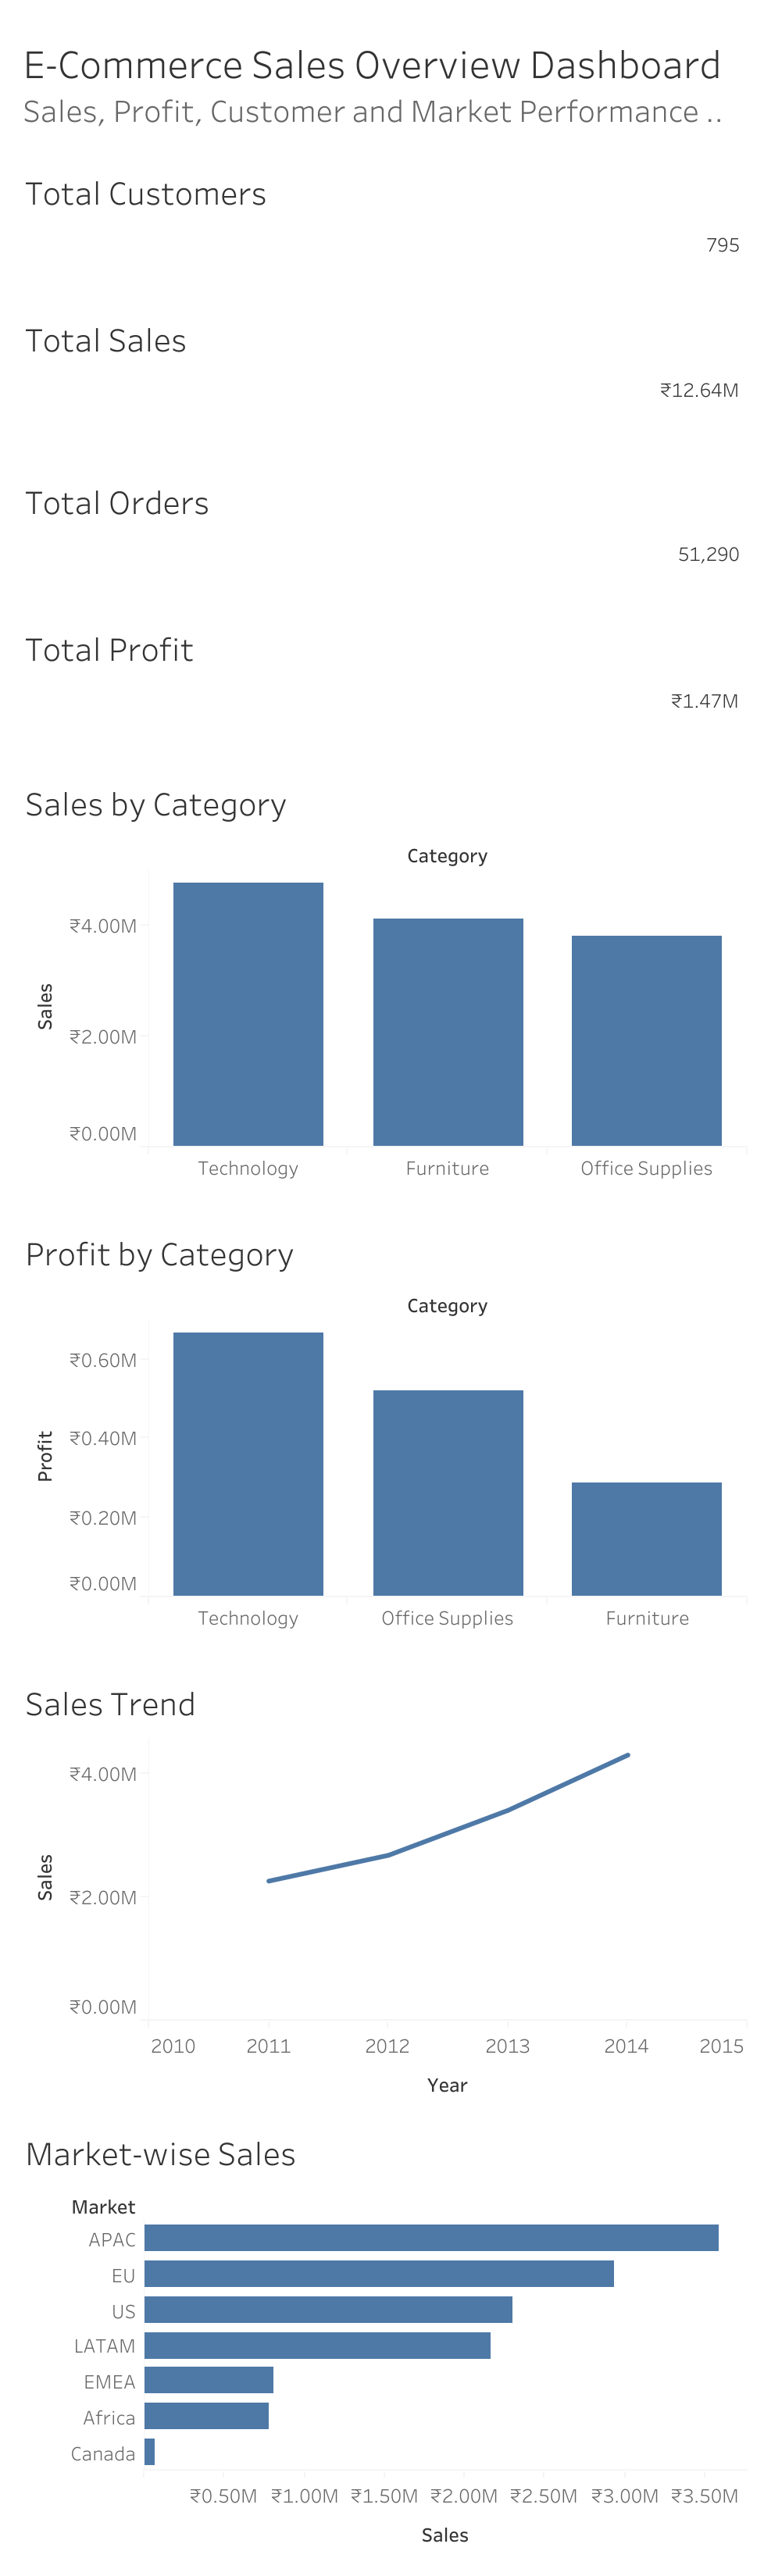

Layout of this report page (visuals, bound fields, positions):
{"tool":"tableau","page":{"name":"E-Commerce Sales Overview Dashboard","canvas":[1000,1000],"units":"permille","ordinal":0},"visuals":[{"type":"title","box":[8.4,9.4,983.3,80.7]},{"type":"worksheet","title":"Total Customers","mark":"Automatic","box":[732.5,86.5,250.8,107.6]},{"type":"worksheet","title":"Total Sales","mark":"Automatic","box":[1,87.7,256,119.3]},{"type":"worksheet","title":"Total Orders","mark":"Automatic","box":[502.6,87.7,230.9,107.6]},{"type":"worksheet","title":"Total Profit","mark":"Automatic","box":[255,88.9,248.7,113.5]},{"type":"worksheet","title":"Sales by Category","mark":"Automatic","rows":["sales"],"cols":["category"],"box":[3.1,193,490.1,421.1]},{"type":"worksheet","title":"Profit by Category","mark":"Automatic","rows":["profit"],"cols":["category"],"box":[496.3,198.8,502.6,412.9]},{"type":"worksheet","title":"Sales Trend","mark":"Line","rows":["sales"],"cols":["year"],"box":[1,616.4,493.2,382.5]},{"type":"worksheet","title":"Market-wise Sales","mark":"Automatic","rows":["market"],"cols":["sales"],"box":[495.3,618.7,503.7,369.6]}]}

Visuals, with their boxes on the dashboard's canvas, which has no fixed pixel size, in thousandths of its width and height (x1, y1, x2, y2). These are canvas units, not pixel positions in the 764x2576 screenshot, which may show the page scaled, cropped or inside an application window:
title: region(8, 9, 992, 90)
"Total Customers" worksheet: region(732, 86, 983, 194)
"Total Sales" worksheet: region(1, 88, 257, 207)
"Total Orders" worksheet: region(503, 88, 734, 195)
"Total Profit" worksheet: region(255, 89, 504, 202)
"Sales by Category" worksheet: region(3, 193, 493, 614)
"Profit by Category" worksheet: region(496, 199, 999, 612)
"Sales Trend" worksheet (Line marks): region(1, 616, 494, 999)
"Market-wise Sales" worksheet: region(495, 619, 999, 988)
